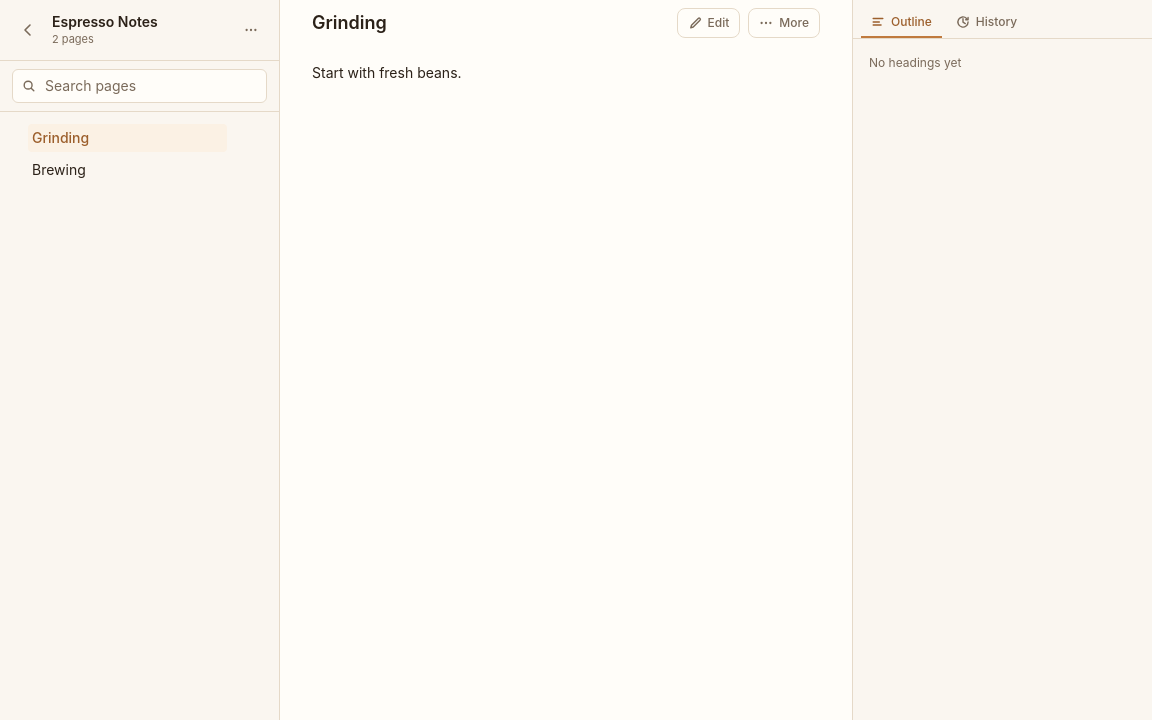
it: NotebookReaderPage › lets a writer rename the page from the chrome
Step 1. Click the button "Edit" → (708, 23), box [677,8,740,38]
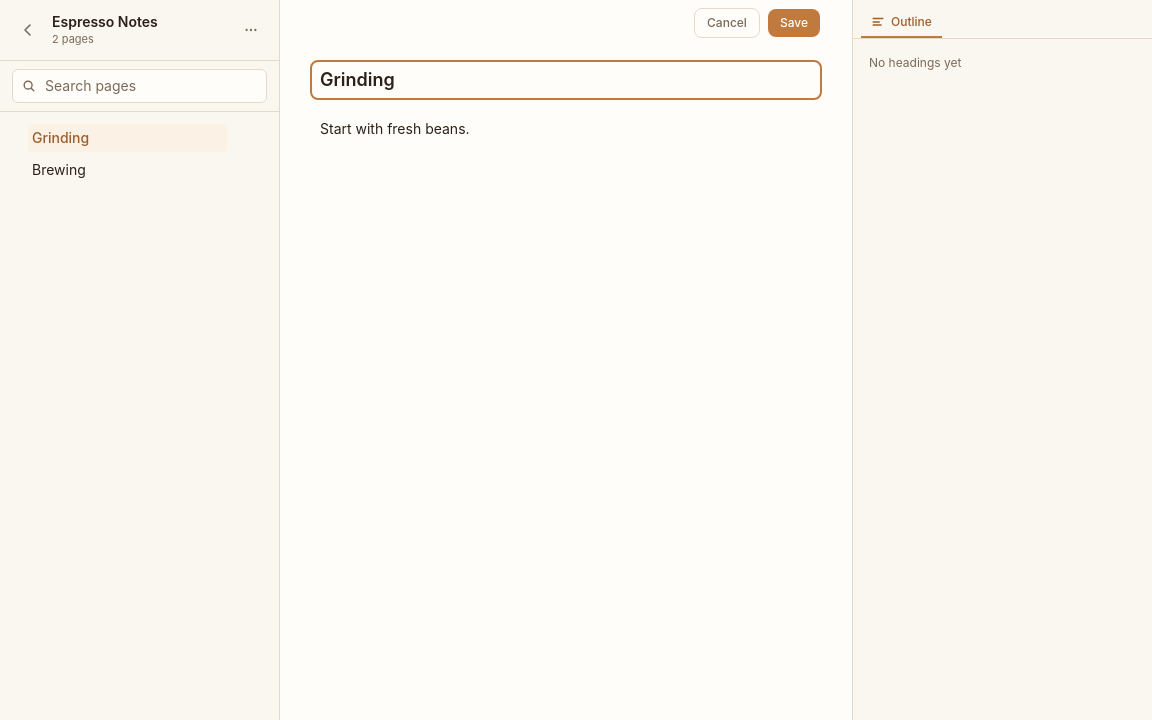
Step 2. Replace the text in the field named "Page title" with "Grinding finer" → (566, 80), box [312,62,820,98]
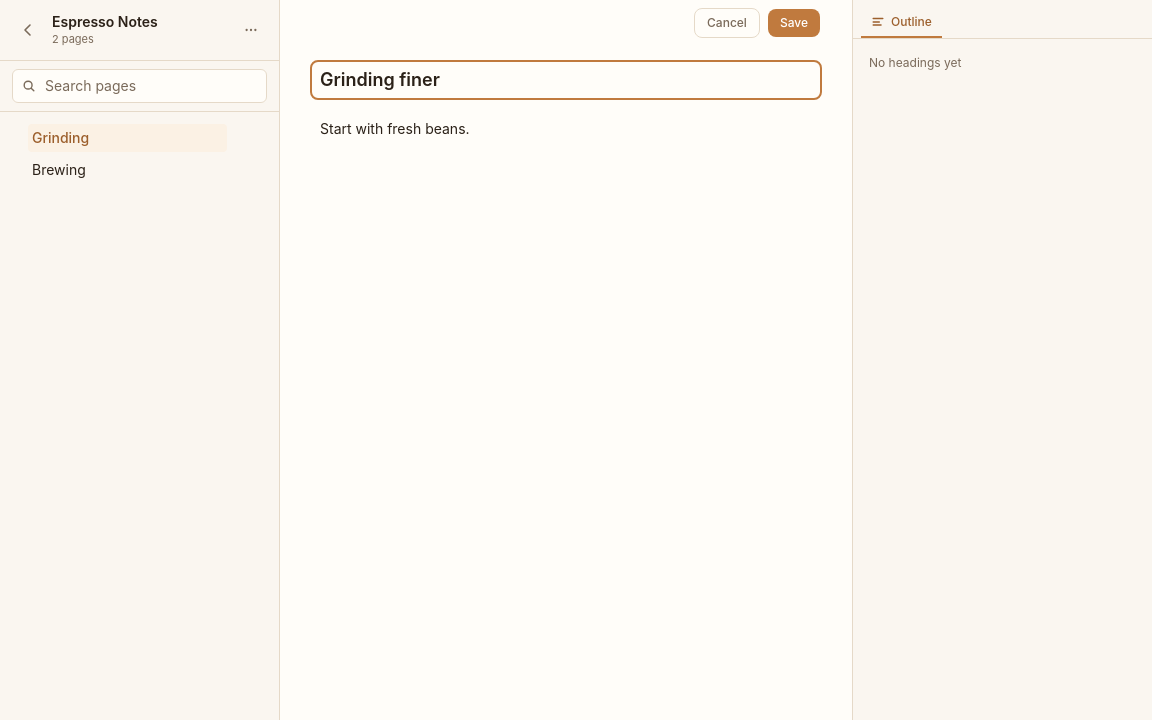
Step 3. Click the button "Save" → (794, 23), box [768,9,820,37]
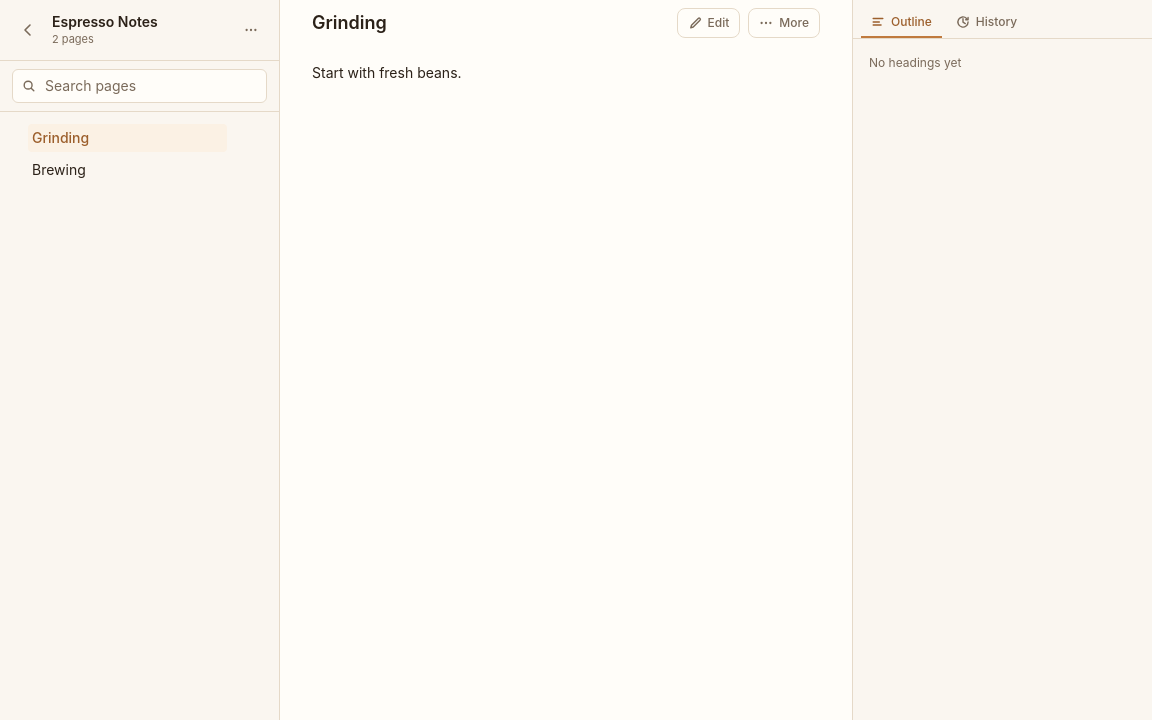
Result: the heading "Grinding" is shown at [312,9,387,37]
